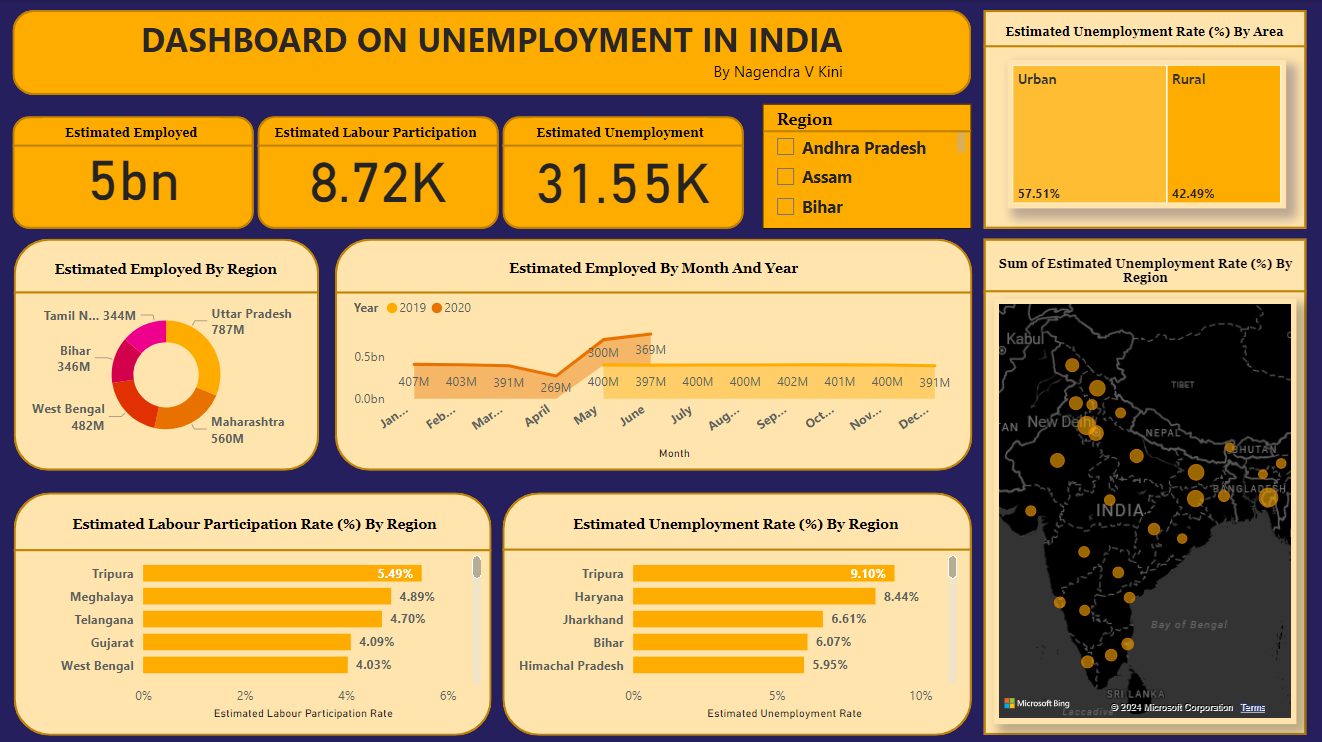

The page's visual inventory and layout, read from the dashboard file:
{"tool":"powerbi","page":{"name":"Page 1","canvas":[1280,720],"ordinal":0},"visuals":[{"type":"group","id":"g1","title":"Group 4","box":[12.1,9.6,1248.2,699.8],"z":0,"group":"g2"},{"type":"shape","box":[12.1,9.6,925,82],"z":0,"group":"g1"},{"type":"shape","box":[12.1,112.1,232.9,108.6],"z":1000,"group":"g3"},{"type":"shape","box":[484.9,112.1,232.9,108.6],"z":1000,"group":"g5"},{"type":"shape","box":[12.1,131.4,232.8,18.1],"z":1000,"group":"g2"},{"type":"shape","box":[13.5,229.8,294.6,223.7],"z":1000,"group":"g1"},{"type":"group","id":"g2","title":"Group 5","box":[12.1,9.6,1248.2,699.8],"z":1001},{"type":"shape","box":[248.5,112.1,232.9,108.6],"z":2000,"group":"g4"},{"type":"card","fields":{"Values":["Sum(Unemployment in India.Estimated Labour Participation Rate (%))"]},"box":[505.4,123.4,191.8,94.1],"z":2000,"group":"g5"},{"type":"donutChart","fields":{"Y":["Sum(Unemployment in India.Estimated Employed)"],"Category":["Unemployment in India.Region"]},"box":[27.8,288.2,265.3,147.1],"z":2000,"group":"g1"},{"type":"card","fields":{"Values":["Sum(Unemployment in India.Estimated Unemployment Rate (%))"]},"box":[279.7,122.2,170.1,95.3],"z":3000,"group":"g4"},{"type":"shape","box":[13.8,474.7,461.1,234.6],"z":3000,"group":"g1"},{"type":"clusteredBarChart","fields":{"Category":["Unemployment in India.Region"],"Y":["Divide(Sum(Unemployment in India.Estimated Labour Participation Rate (%)), ScopedEval(Sum(Unemployment in India.Estimate"]},"box":[19.3,522.8,450.1,175.6],"z":4000,"group":"g1"},{"type":"card","fields":{"Values":["Sum(Unemployment in India.Estimated Employed)"]},"box":[45.6,118.6,165.2,98.9],"z":5000,"group":"g3"},{"type":"shape","box":[322.8,229.8,614.9,223.7],"z":5000,"group":"g1"},{"type":"stackedAreaChart","fields":{"Category":["Unemployment in India. Date.Variation.Date Hierarchy.Month"],"Y":["Sum(Unemployment in India.Estimated Employed)"],"Series":["Unemployment in India. Date.Variation.Date Hierarchy.Year"]},"box":[341.3,276.1,578.9,168.8],"z":6000,"group":"g1"},{"type":"shape","box":[484.4,474.7,452.8,234.6],"z":7000,"group":"g1"},{"type":"clusteredBarChart","fields":{"Y":["Divide(Sum(Unemployment in India.Estimated Unemployment Rate (%)), ScopedEval(Sum(Unemployment in India.Estimated Unempl"],"Category":["Unemployment in India.Region"]},"box":[492.7,522.8,436.4,175.6],"z":8000,"group":"g1"},{"type":"shape","box":[949.2,9.6,311.2,211.1],"z":9000,"group":"g1"},{"type":"treemap","fields":{"Group":["Unemployment in India.Area"],"Values":["Sum(Unemployment in India.Estimated Unemployment Rate (%))"]},"box":[972.1,57.8,268.9,143.5],"z":10000,"group":"g1"},{"type":"shape","box":[949.2,230.3,311.2,478.8],"z":11000,"group":"g1"},{"type":"map","fields":{"Series":["Unemployment in India.Region"],"Size":["Sum(Unemployment in India.Estimated Unemployment Rate (%))"],"Category":["Unemployment in India.Region"]},"box":[958.8,288.2,291.9,410.1],"z":12000,"group":"g1"},{"type":"group","id":"g3","title":"Group 1","box":[12.1,112.1,232.9,108.6],"z":13000,"group":"g1"},{"type":"group","id":"g4","title":"Group 2","box":[248.5,112.1,232.9,108.6],"z":14000,"group":"g1"},{"type":"group","id":"g5","title":"Group 3","box":[484.9,112.1,232.9,108.6],"z":15000,"group":"g1"},{"type":"shape","box":[508.3,113.8,180.9,30.2],"z":15000,"group":"g5"},{"type":"slicer","fields":{"Values":["Unemployment in India.Region"]},"box":[735.7,100.1,201.4,120.6],"z":16000,"group":"g1"},{"type":"shape","box":[258.5,113.8,208.6,30.2],"z":17000,"group":"g4"},{"type":"shape","box":[65.9,485.7,358.1,39.8],"z":17000,"group":"g1"},{"type":"shape","box":[45.9,241.2,227.9,37.4],"z":18000,"group":"g1"},{"type":"shape","box":[424.6,240,412.5,37.4],"z":19000,"group":"g1"},{"type":"shape","box":[550.3,485.7,319.7,38.4],"z":20000,"group":"g1"},{"type":"shape","box":[36.4,113.8,180.9,30.2],"z":20002,"group":"g3"},{"type":"shape","box":[960,240,290.7,41],"z":21000,"group":"g1"},{"type":"shape","box":[958.8,9.6,290.7,41],"z":22000,"group":"g1"},{"type":"shape","box":[13.8,276.2,293.8,11.9],"z":23000,"group":"g1"},{"type":"shape","box":[13.8,524.1,461.1,12.3],"z":24000,"group":"g1"},{"type":"shape","box":[323.3,276.1,613.9,12.1],"z":25000,"group":"g1"},{"type":"shape","box":[484.4,522.8,452.8,13.7],"z":26000,"group":"g1"},{"type":"shape","box":[949.2,274.9,311.2,12.1],"z":27000,"group":"g1"},{"type":"shape","box":[949.2,38.5,311.2,12.1],"z":28000,"group":"g1"},{"type":"shape","box":[652.5,44.6,196.6,33.8],"z":29000,"group":"g1"},{"type":"shape","box":[248.5,131.4,232.8,18.1],"z":31000,"group":"g1"},{"type":"shape","box":[484.9,131.4,232.8,18.1],"z":32000,"group":"g1"},{"type":"shape","box":[736.9,121.8,200.2,9.6],"z":33000,"group":"g1"}]}

Visuals, with their boxes in screenshot pixels (x1, y1, x2, y2), scaled from the page's 1280x720 canvas onto the 1322x742 screenshot:
"Group 4" group: region(12, 10, 1302, 731)
shape: region(12, 10, 968, 94)
shape: region(12, 116, 253, 227)
shape: region(501, 116, 741, 227)
shape: region(12, 135, 253, 154)
shape: region(14, 237, 318, 467)
"Group 5" group: region(12, 10, 1302, 731)
shape: region(257, 116, 497, 227)
card - Sum(Unemployment in India.Estimated Labour Participation Rate (%)): region(522, 127, 720, 224)
donutChart - Sum(Unemployment in India.Estimated Employed) x Unemployment in India.Region: region(29, 297, 303, 449)
card - Sum(Unemployment in India.Estimated Unemployment Rate (%)): region(289, 126, 465, 224)
shape: region(14, 489, 490, 731)
clusteredBarChart - Unemployment in India.Region x Divide(Sum(Unemployment in India.Estimated Labour Participation Rate (%)), ScopedEval(Sum(Unemployment in India.Estimate: region(20, 539, 485, 720)
card - Sum(Unemployment in India.Estimated Employed): region(47, 122, 218, 224)
shape: region(333, 237, 968, 467)
stackedAreaChart - Unemployment in India. Date.Variation.Date Hierarchy.Month x Sum(Unemployment in India.Estimated Employed): region(352, 285, 950, 458)
shape: region(500, 489, 968, 731)
clusteredBarChart - Divide(Sum(Unemployment in India.Estimated Unemployment Rate (%)), ScopedEval(Sum(Unemployment in India.Estimated Unempl x Unemployment in India.Region: region(509, 539, 960, 720)
shape: region(980, 10, 1302, 227)
treemap - Unemployment in India.Area x Sum(Unemployment in India.Estimated Unemployment Rate (%)): region(1004, 60, 1282, 207)
shape: region(980, 237, 1302, 731)
map - Unemployment in India.Region x Sum(Unemployment in India.Estimated Unemployment Rate (%)): region(990, 297, 1292, 720)
"Group 1" group: region(12, 116, 253, 227)
"Group 2" group: region(257, 116, 497, 227)
"Group 3" group: region(501, 116, 741, 227)
shape: region(525, 117, 712, 148)
slicer - Unemployment in India.Region: region(760, 103, 968, 227)
shape: region(267, 117, 482, 148)
shape: region(68, 501, 438, 542)
shape: region(47, 249, 283, 287)
shape: region(439, 247, 865, 286)
shape: region(568, 501, 899, 540)
shape: region(38, 117, 224, 148)
shape: region(991, 247, 1292, 290)
shape: region(990, 10, 1290, 52)
shape: region(14, 285, 318, 297)
shape: region(14, 540, 490, 553)
shape: region(334, 285, 968, 297)
shape: region(500, 539, 968, 553)
shape: region(980, 283, 1302, 296)
shape: region(980, 40, 1302, 52)
shape: region(674, 46, 877, 81)
shape: region(257, 135, 497, 154)
shape: region(501, 135, 741, 154)
shape: region(761, 126, 968, 135)
